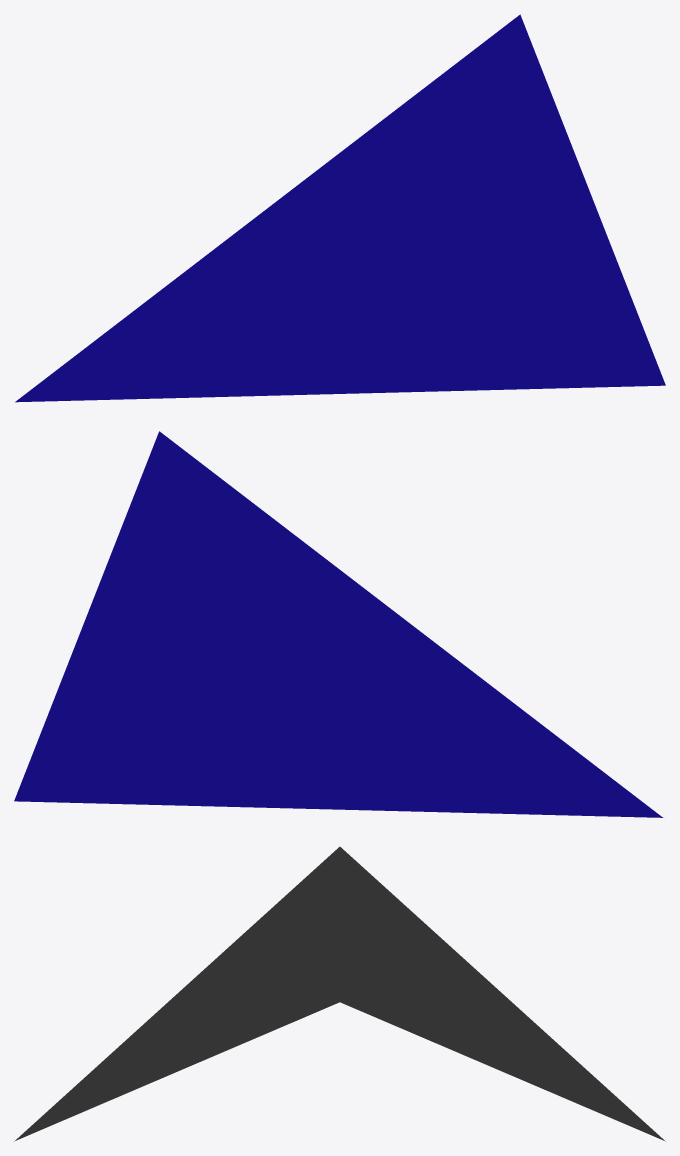
Rendered from TriangleCar.glb.
3 renders of one model, top to bottom at view 1: azimuth 30°, elevation 25°; view 2: azimuth 150°, elevation 25°; view 3: azimuth 270°, elevation 25°, orthographic. The views are drawn at different scales.
Visible parts, largest first — view 1: Cube; view 2: Cube; view 3: Cube.
Boxes of the visible parts, box(x1,y1,x2,y2) form: Cube: box(15, 14, 665, 402); Cube: box(14, 431, 664, 817); Cube: box(14, 846, 665, 1141).
Bounding box in the file's own units: 2.01 × 1 × 2.
